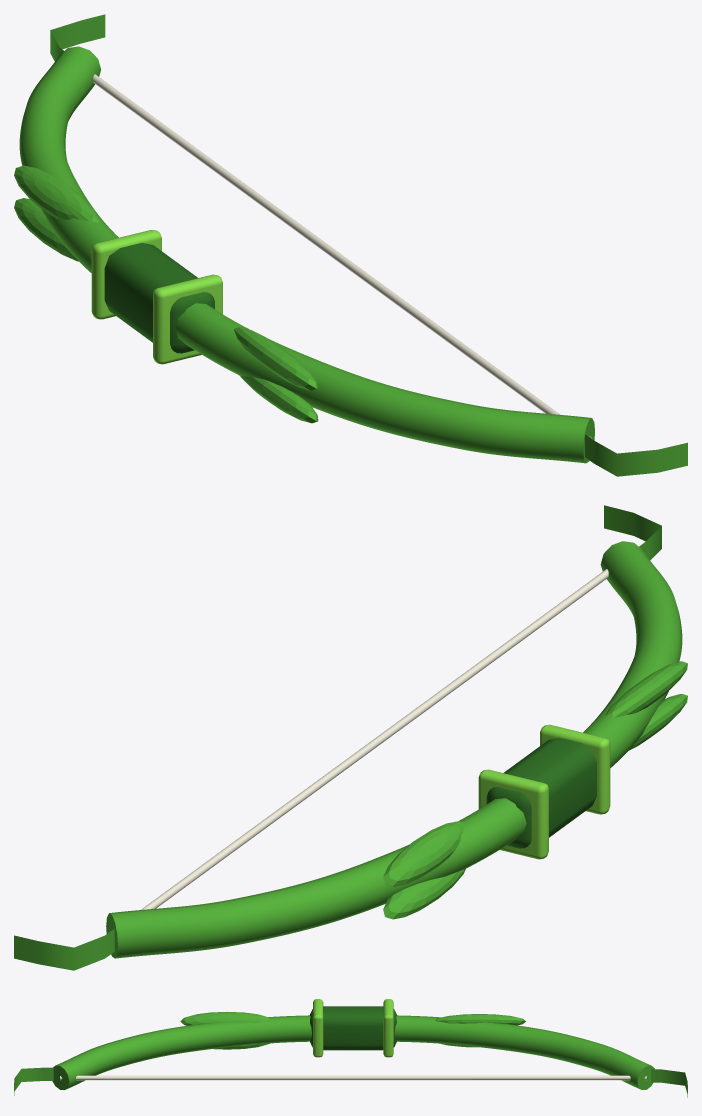
File: Leafbow.fbx
3 renders of one model, top to bottom at view 1: azimuth 30°, elevation 25°; view 2: azimuth 150°, elevation 25°; view 3: azimuth 270°, elevation 25°, orthographic. The views are drawn at different scales.
Visible parts, largest first — view 1: Leafbow_Body, Leafbow_Grip, Leafbow_String, Grip_Ring, Leaf_Upper_Front, Bow_Tip_Lower, Leaf_Lower_Front, Grip_Ring.001, Leaf_Lower_Back, Bow_Tip_Upper, Leaf_Upper_Back; view 2: Leafbow_Body, Leafbow_Grip, Leafbow_String, Leaf_Upper_Front, Grip_Ring.001, Bow_Tip_Upper, Grip_Ring, Leaf_Lower_Front, Leaf_Upper_Back, Bow_Tip_Lower, Leaf_Lower_Back; view 3: Leafbow_Body, Leafbow_String, Leafbow_Grip, Leaf_Lower_Front, Leaf_Upper_Front, Grip_Ring.001, Grip_Ring, Bow_Tip_Lower, Bow_Tip_Upper.
Boxes of the visible parts, box(x1,y1,x2,y2) form: Leafbow_Body: box(19, 46, 594, 463); Leafbow_Grip: box(104, 243, 214, 353); Leafbow_String: box(93, 74, 592, 439); Grip_Ring: box(153, 274, 222, 364); Leaf_Upper_Front: box(14, 165, 98, 222); Bow_Tip_Lower: box(585, 434, 687, 476); Leaf_Lower_Front: box(233, 327, 318, 390); Grip_Ring.001: box(91, 230, 161, 319); Leaf_Lower_Back: box(240, 375, 318, 423); Bow_Tip_Upper: box(50, 14, 105, 61); Leaf_Upper_Back: box(14, 198, 78, 261); Leafbow_Body: box(106, 541, 682, 958); Leafbow_Grip: box(486, 737, 596, 848); Leafbow_String: box(141, 569, 608, 909); Leaf_Upper_Front: box(383, 821, 464, 886); Grip_Ring.001: box(478, 769, 548, 859); Bow_Tip_Upper: box(14, 929, 114, 970); Grip_Ring: box(540, 724, 610, 814); Leaf_Lower_Front: box(605, 661, 687, 717); Leaf_Upper_Back: box(383, 869, 465, 919); Bow_Tip_Lower: box(604, 505, 661, 560); Leaf_Lower_Back: box(628, 694, 687, 750); Leafbow_Body: box(52, 1015, 654, 1089); Leafbow_String: box(60, 1075, 646, 1080); Leafbow_Grip: box(310, 1006, 396, 1050); Leaf_Lower_Front: box(180, 1011, 270, 1025); Leaf_Upper_Front: box(435, 1014, 525, 1025); Grip_Ring.001: box(383, 999, 393, 1057); Grip_Ring: box(313, 999, 323, 1057); Bow_Tip_Lower: box(14, 1067, 53, 1095); Bow_Tip_Upper: box(651, 1069, 687, 1097).
Size of the model in its own units: 61.56 by 16 by 230.
